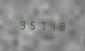eight: (54, 20, 62, 31)
five: (27, 19, 35, 30)
four: (45, 20, 53, 31)
nine: (18, 19, 26, 30)
seven: (36, 19, 44, 31)
